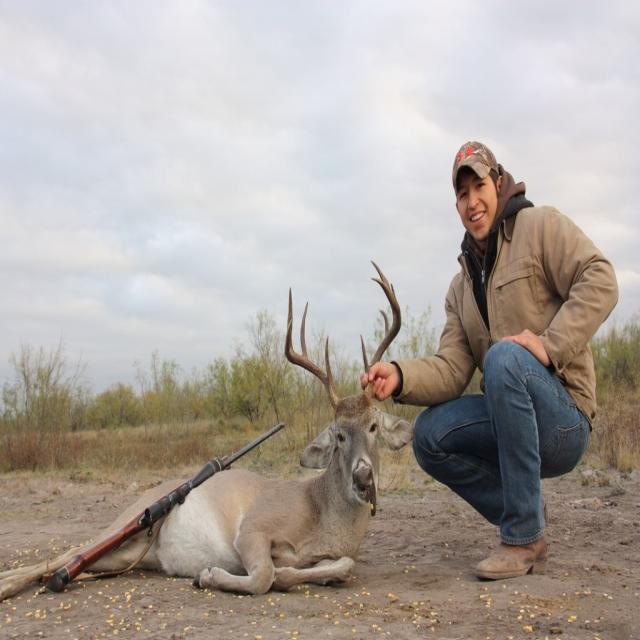Deer: (0, 260, 414, 602)
